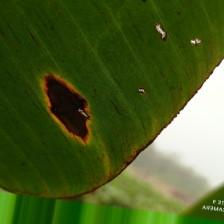cordana: (0, 0, 224, 199)
